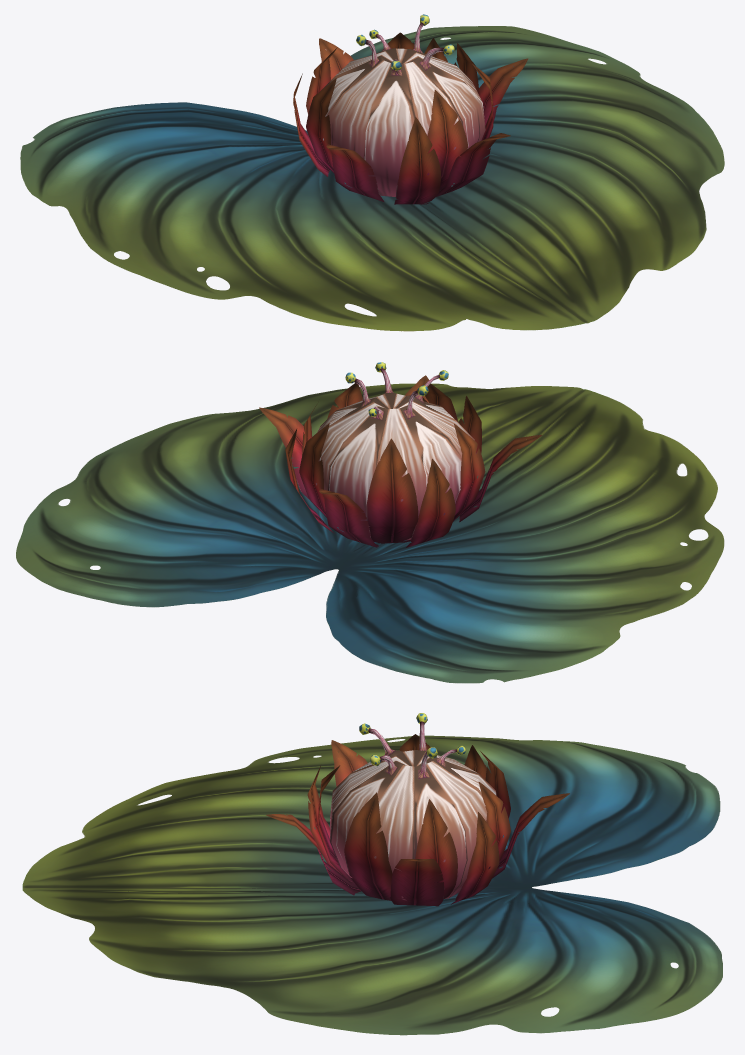
The model's file is nenufare.fbx.
3 views of the same model, one above another, from view 1: azimuth 30°, elevation 25°; view 2: azimuth 150°, elevation 25°; view 3: azimuth 270°, elevation 25° (orthographic). The views are drawn at different scales.
Parts seen in each view (by area): view 1: nenufare, fleur_nenufare; view 2: nenufare, fleur_nenufare; view 3: nenufare, fleur_nenufare.
Boxes of the visible parts, <box> form: nenufare: <box>20,26,724,331</box>; fleur_nenufare: <box>293,14,528,204</box>; nenufare: <box>16,383,724,683</box>; fleur_nenufare: <box>259,362,542,547</box>; nenufare: <box>22,735,722,1035</box>; fleur_nenufare: <box>266,713,569,906</box>.
Size of the model in its own units: 32.17 by 8.29 by 31.81.
